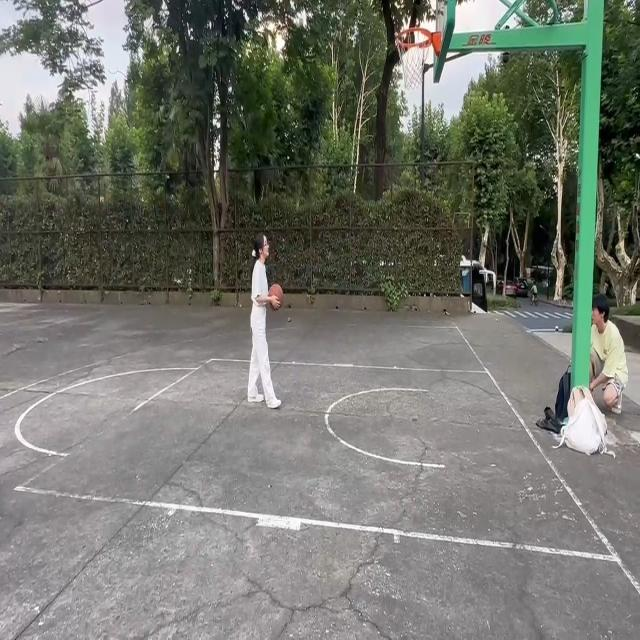basketball: (396, 29, 442, 90)
rim: (271, 282, 284, 308), (604, 386, 616, 408)
